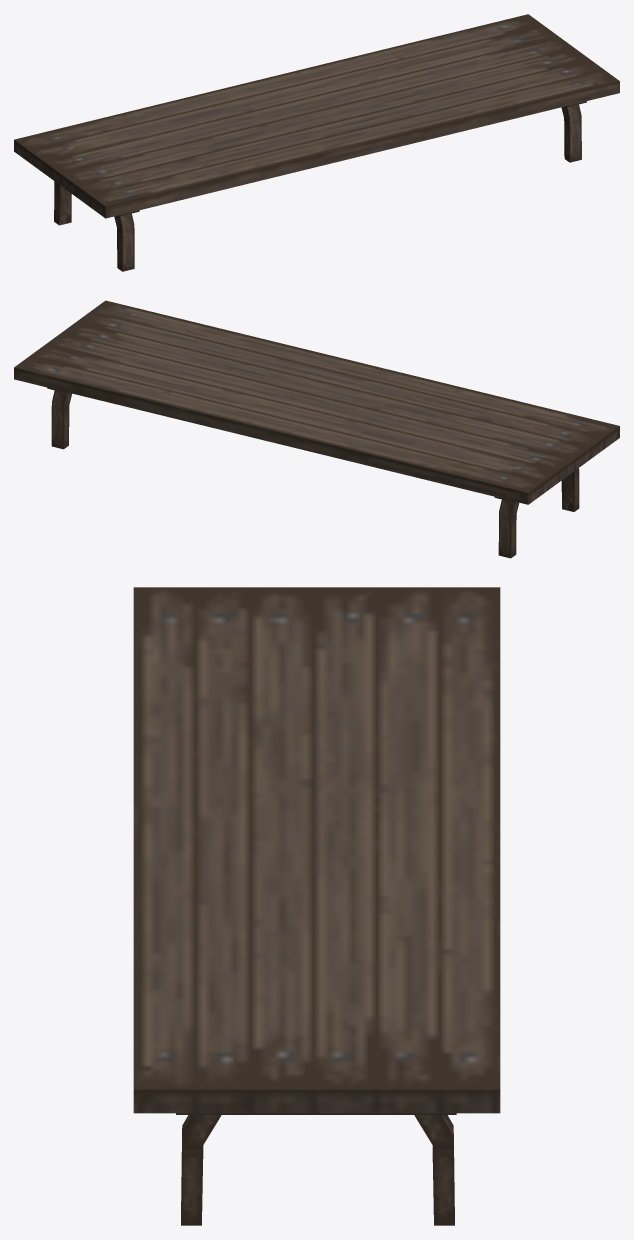
File: wooden_diningtable.fbx
3 views of the same model, one above another, from view 1: azimuth 30°, elevation 25°; view 2: azimuth 150°, elevation 25°; view 3: azimuth 270°, elevation 25° (orthographic). The views are drawn at different scales.
Parts seen in each view (by area): view 1: Cube__32_30; view 2: Cube__32_30; view 3: Cube__32_30.
Part boxes in pixels (box(x1,y1,x2,y2)): Cube__32_30: box(14, 14, 619, 271); Cube__32_30: box(14, 300, 619, 558); Cube__32_30: box(133, 587, 500, 1225).
Bounding box in the file's own units: 1086 × 163 × 335.
